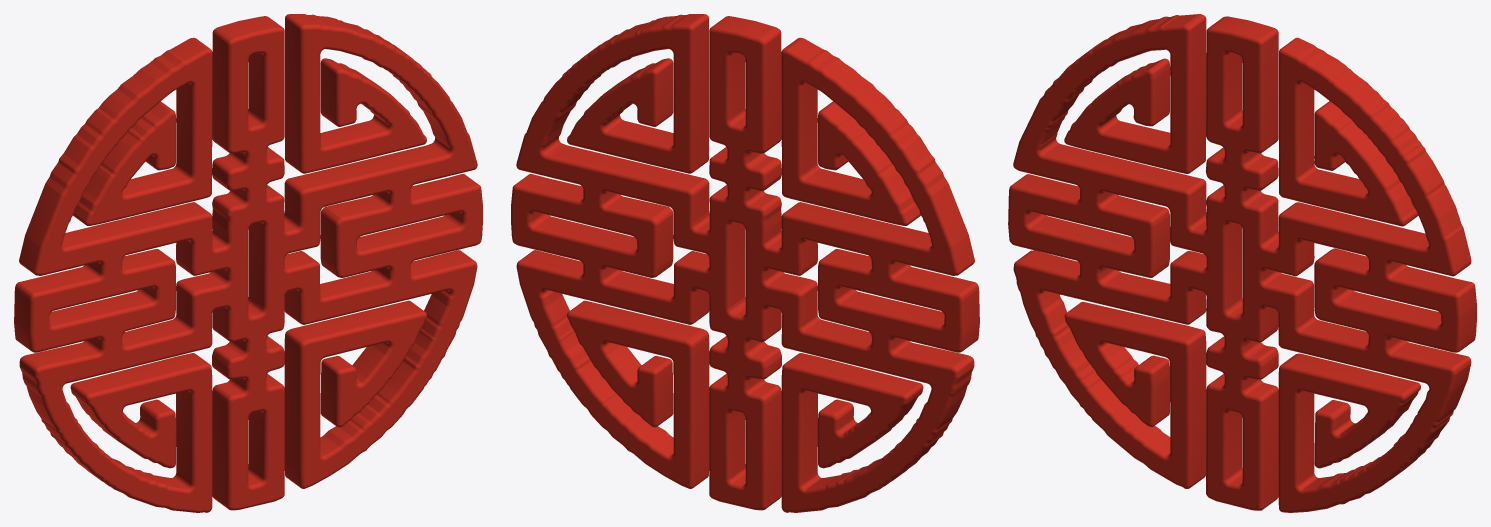
Rendered from shou-circular-calco.glb.
3 renders of one model, left to right at view 1: azimuth 30°, elevation 25°; view 2: azimuth 150°, elevation 25°; view 3: azimuth 330°, elevation 25°, orthographic.
Visible parts, largest first — view 1: geometry_0; view 2: geometry_0; view 3: geometry_0.
Part boxes in pixels (x1,y1,x2,y2): geometry_0: (14, 14, 482, 512); geometry_0: (511, 14, 979, 512); geometry_0: (1008, 14, 1476, 512).
Bounding box in the file's own units: 1 × 0.9993 × 0.07.
